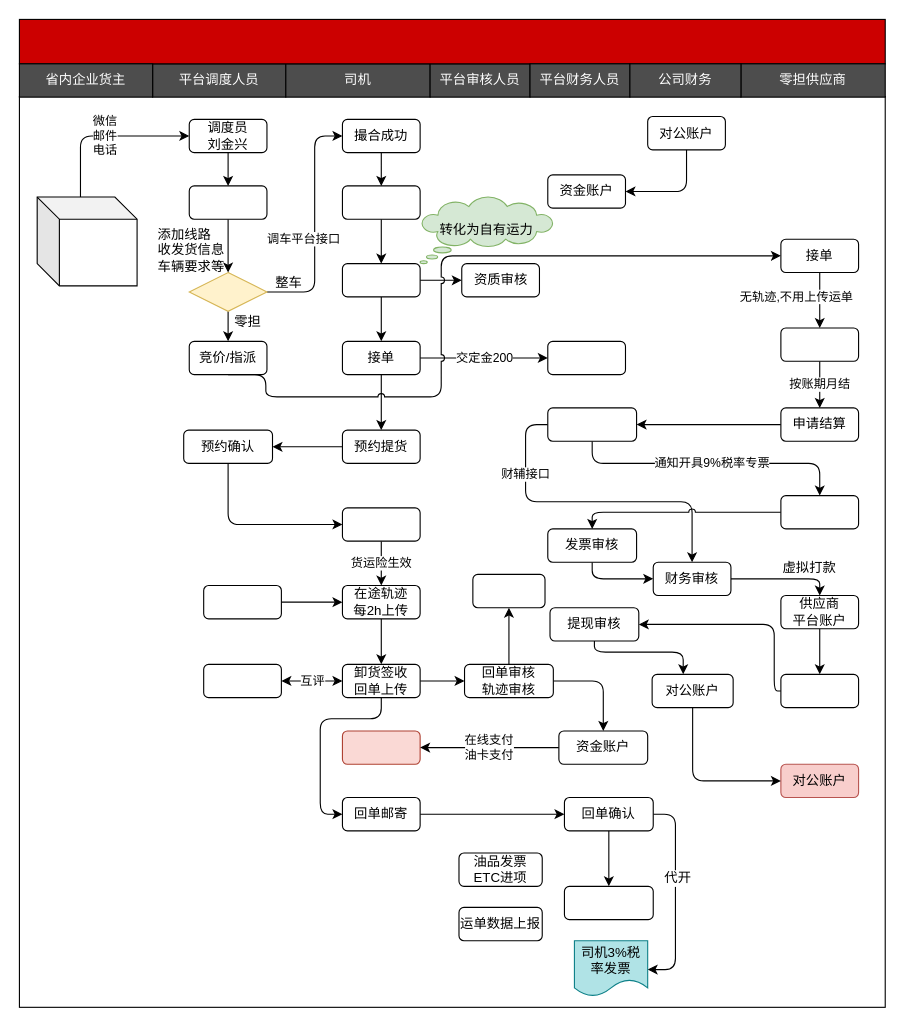
Some shapes in this 905 by 1027 pixel diagram are drawn without their labels. The centre of each missing label's shape, as x and y in pixels:
企业货主: pixel 86 241
体系外线上业务流程: pixel 451 41
信用评价: pixel 242 680
发布货源: pixel 227 202
司机钱包: pixel 380 747
回单上传 承运凭证: pixel 819 344
回单押金退回: pixel 608 902
安装APP 微信: pixel 380 202
定金账户: pixel 586 357
提现申请: pixel 819 690
提货装车 定金返还: pixel 380 524
整车/零担: pixel 227 291
注册认证: pixel 380 280
线下邮寄发票: pixel 819 512
结算审核: pixel 592 424
轨迹打分: pixel 508 590
轨迹监控: pixel 242 601
